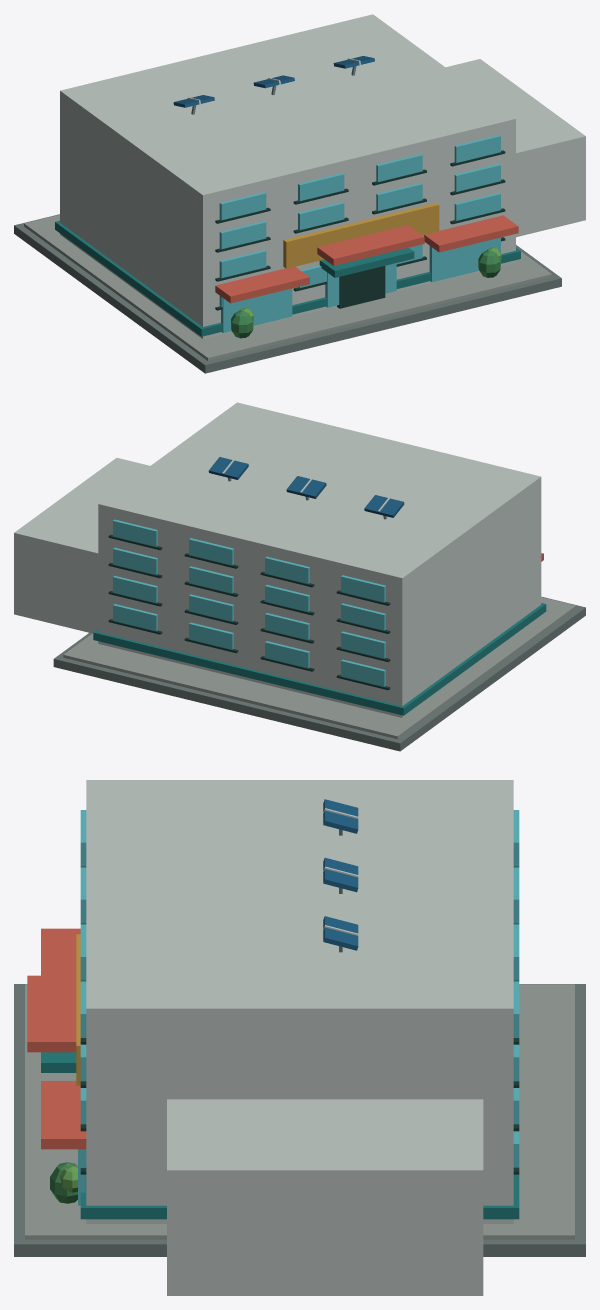
File: supermarket_lv4.glb
3 renders of one model, top to bottom at view 1: azimuth 30°, elevation 25°; view 2: azimuth 150°, elevation 25°; view 3: azimuth 270°, elevation 25°, orthographic. The views are drawn at different scales.
Visible parts, largest first — view 1: rough, glossy, metallic; view 2: rough, glossy, metallic; view 3: rough, glossy, metallic.
Boxes of the visible parts, x1,y1,x2,y2 form: rough: (14, 14, 585, 373); glossy: (219, 135, 500, 333); metallic: (173, 56, 374, 114); rough: (14, 402, 585, 751); glossy: (113, 519, 385, 686); metallic: (208, 457, 404, 519); rough: (14, 780, 585, 1295); glossy: (78, 810, 519, 1205); metallic: (323, 799, 358, 952).
Size of the model in its own units: 11.87 by 4.56 by 9.1.
